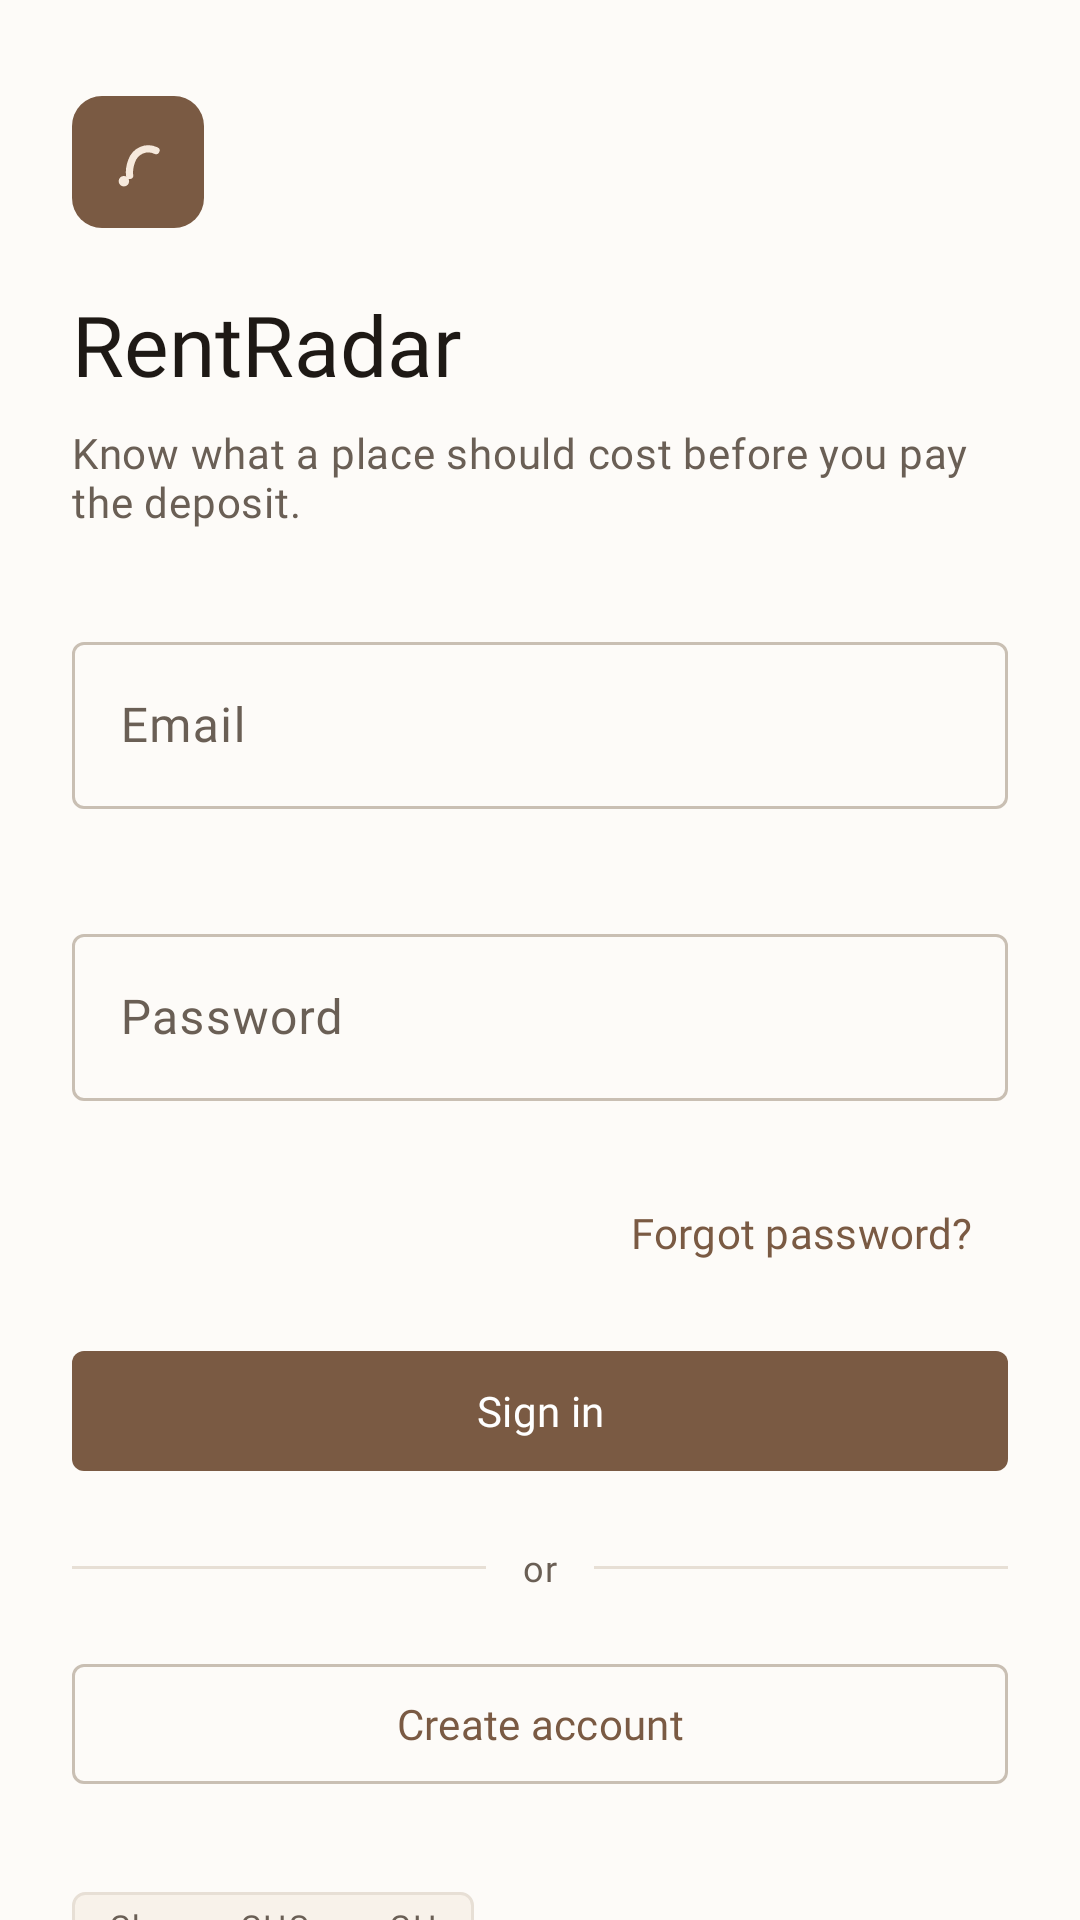

Point at icon controls on the screen. Image size 1080x1920, points as (x=x, y=y).
brand glyph: (x=138, y=162)
